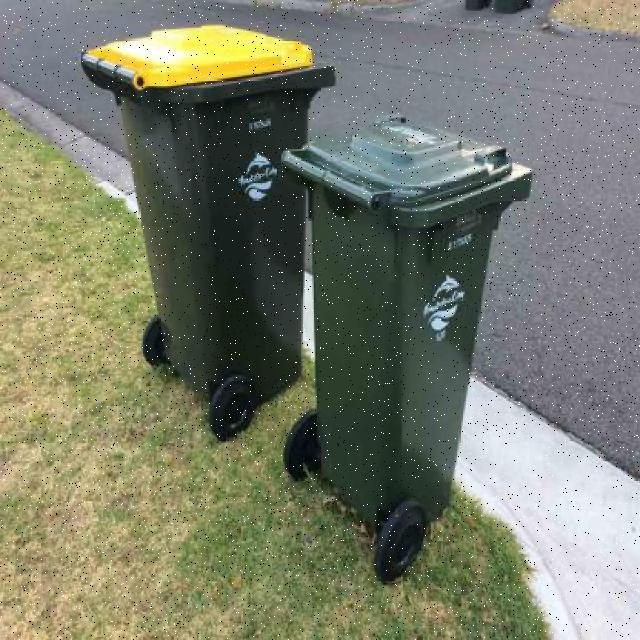garbage container: (278, 112, 539, 595), (77, 17, 343, 448)
